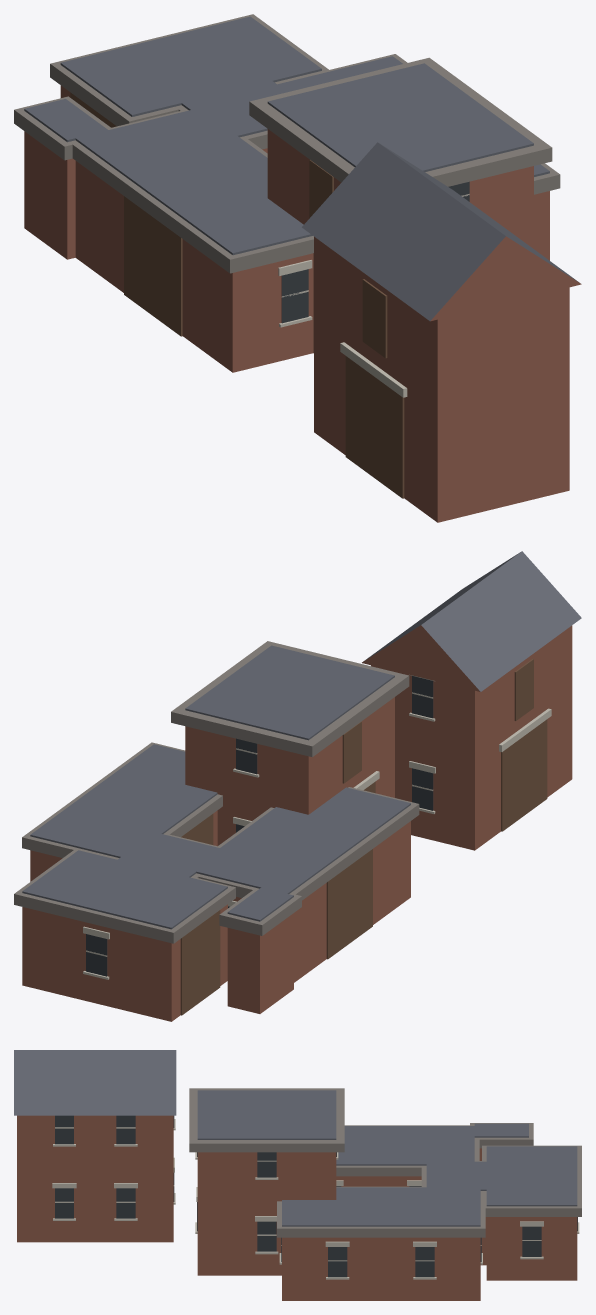
File: walker_house_1720_prairie_coach_house__draft_1904.glb
The picture shows the model from 3 angles, top to bottom: view 1: azimuth 30°, elevation 25°; view 2: azimuth 150°, elevation 25°; view 3: azimuth 270°, elevation 25°; orthographic projection. The views are drawn at different scales.
Visible parts, largest first — view 1: walker_house_1720_prairie_coach_house__draft_1904; view 2: walker_house_1720_prairie_coach_house__draft_1904; view 3: walker_house_1720_prairie_coach_house__draft_1904.
Part boxes in pixels (x1,y1,x2,y2): walker_house_1720_prairie_coach_house__draft_1904: [14, 14, 581, 522]; walker_house_1720_prairie_coach_house__draft_1904: [14, 551, 581, 1021]; walker_house_1720_prairie_coach_house__draft_1904: [14, 1050, 581, 1300].
Bounding box in the file's own units: 10.4 × 7.88 × 23.57.
